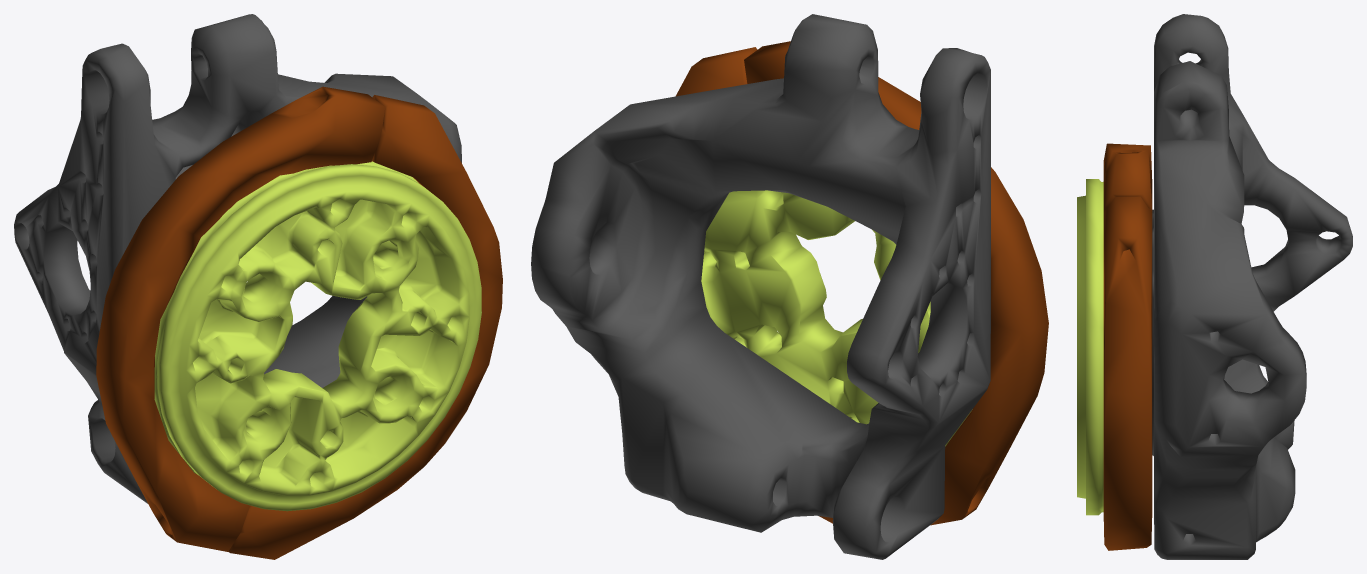
Rendered from left_hip_yaw.obj.
3 views of the same model, side by side, from view 1: azimuth 30°, elevation 25°; view 2: azimuth 150°, elevation 25°; view 3: azimuth 270°, elevation 25° (orthographic). The views are drawn at different scales.
Bounding box in the file's own units: 0.1251 × 0.1597 × 0.0852.
